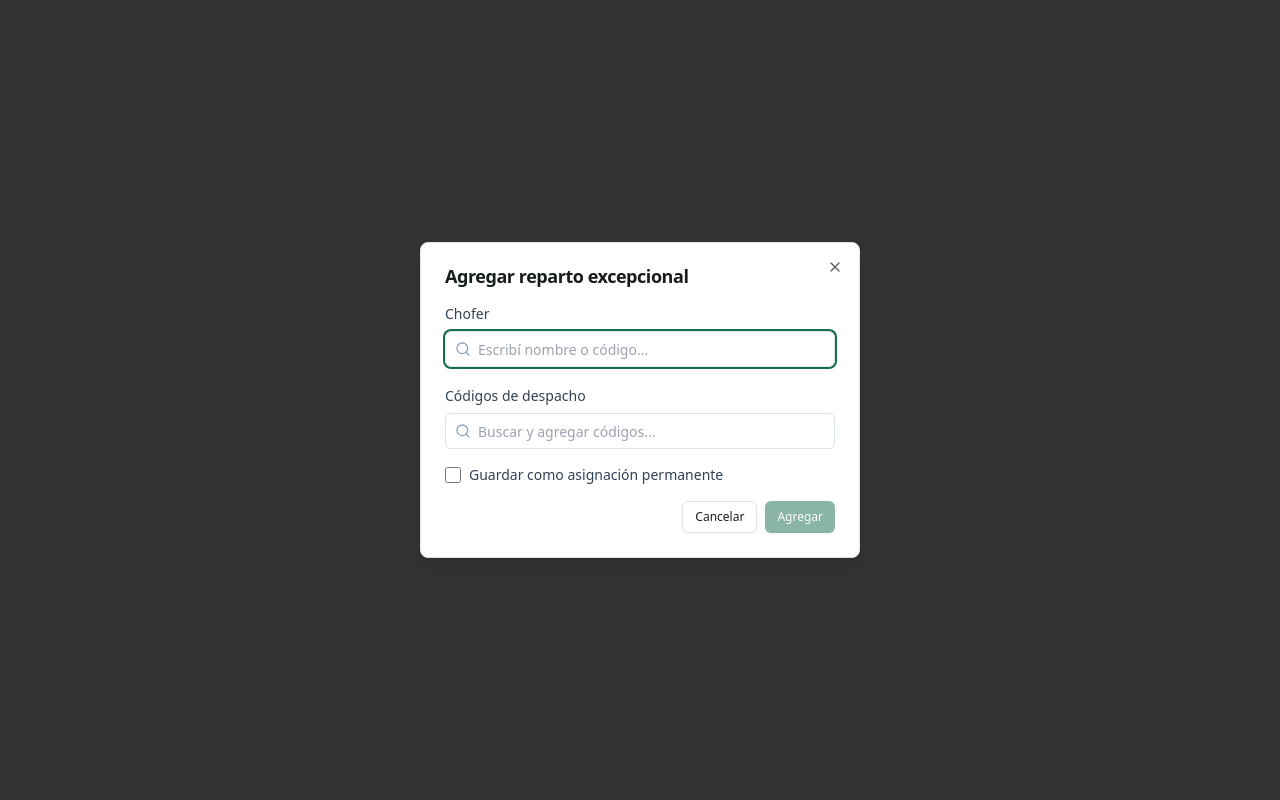
Scenario: RepartoExcepcionalModal › los códigos agregados se pueden quitar antes de guardar
In the field with placeholder "Escribí nombre o código...": (640, 349) [445, 331, 835, 367], type "lop"
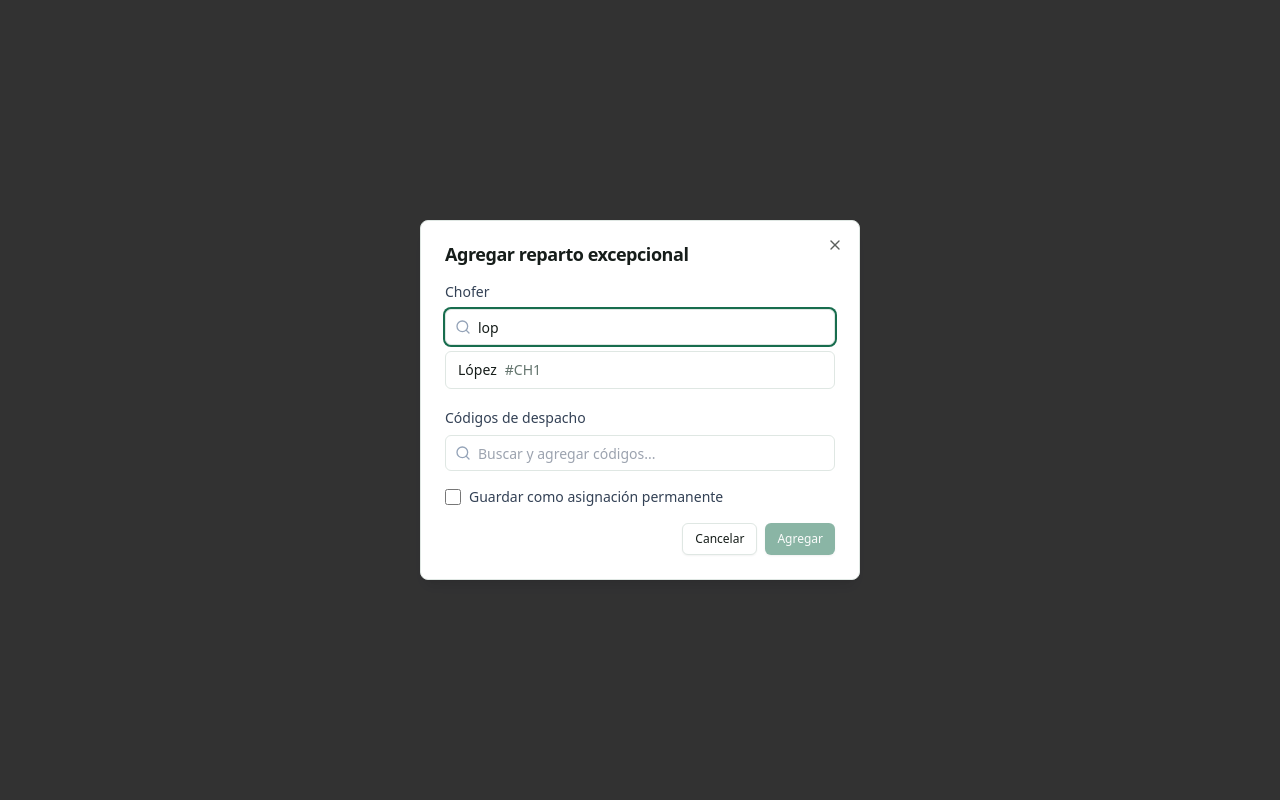
Click the button "López#CH1": (477, 370) [446, 352, 834, 388]
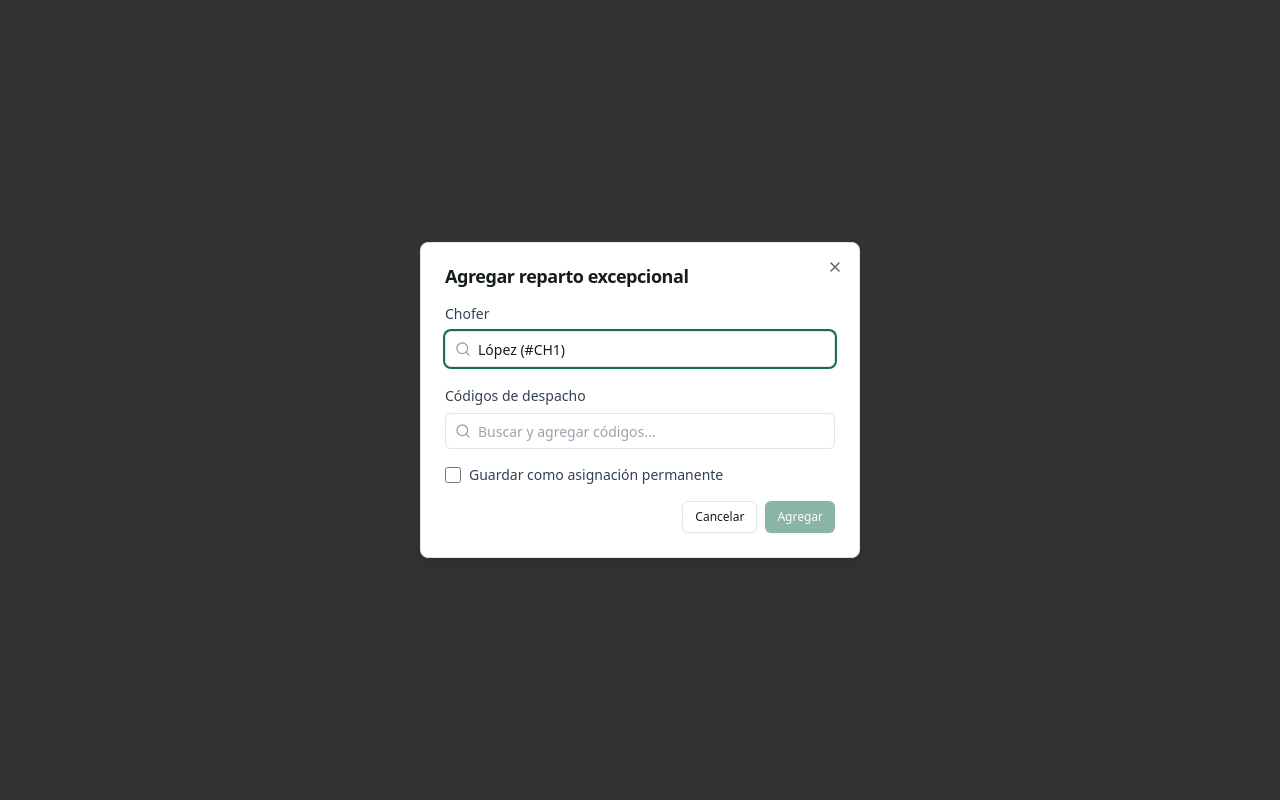
In the field with placeholder "Buscar y agregar códigos...": (640, 431) [445, 413, 835, 449], type "ruta"
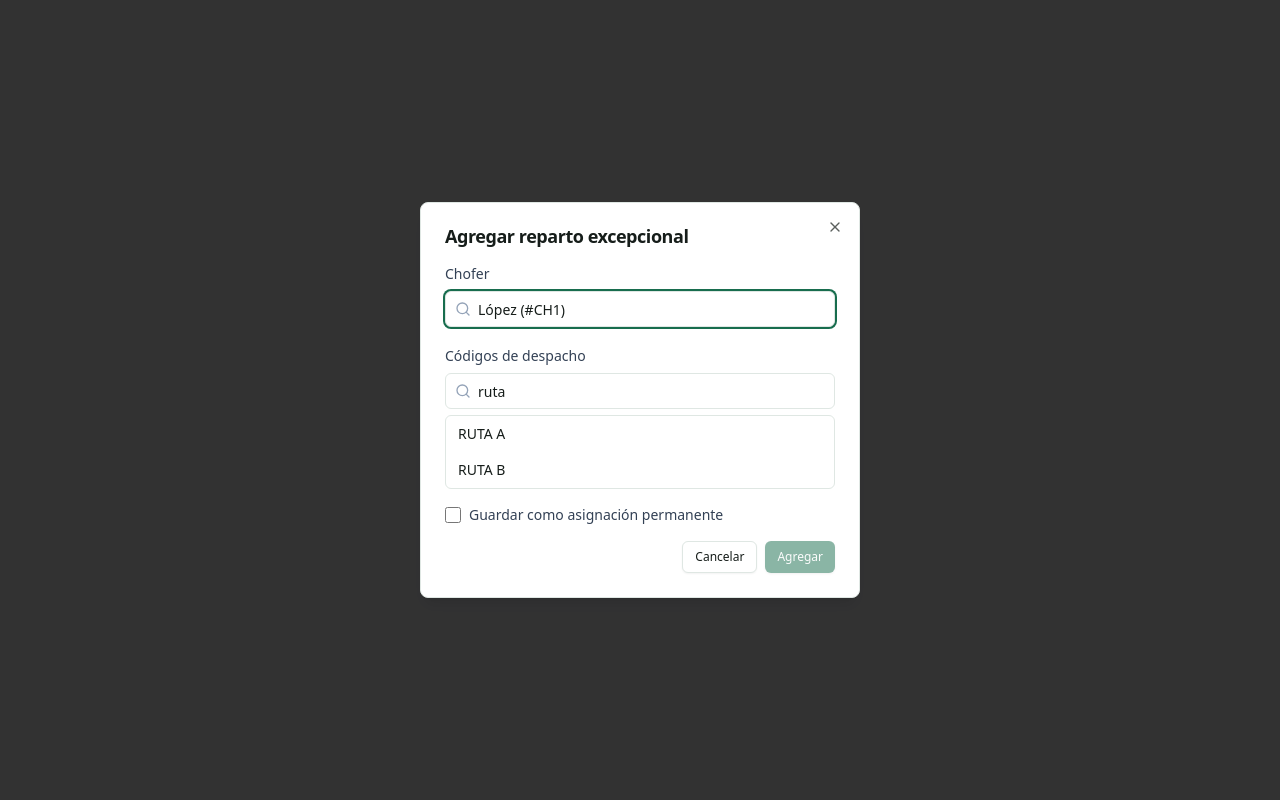
Click the button "RUTA A": (482, 434) [446, 416, 834, 452]
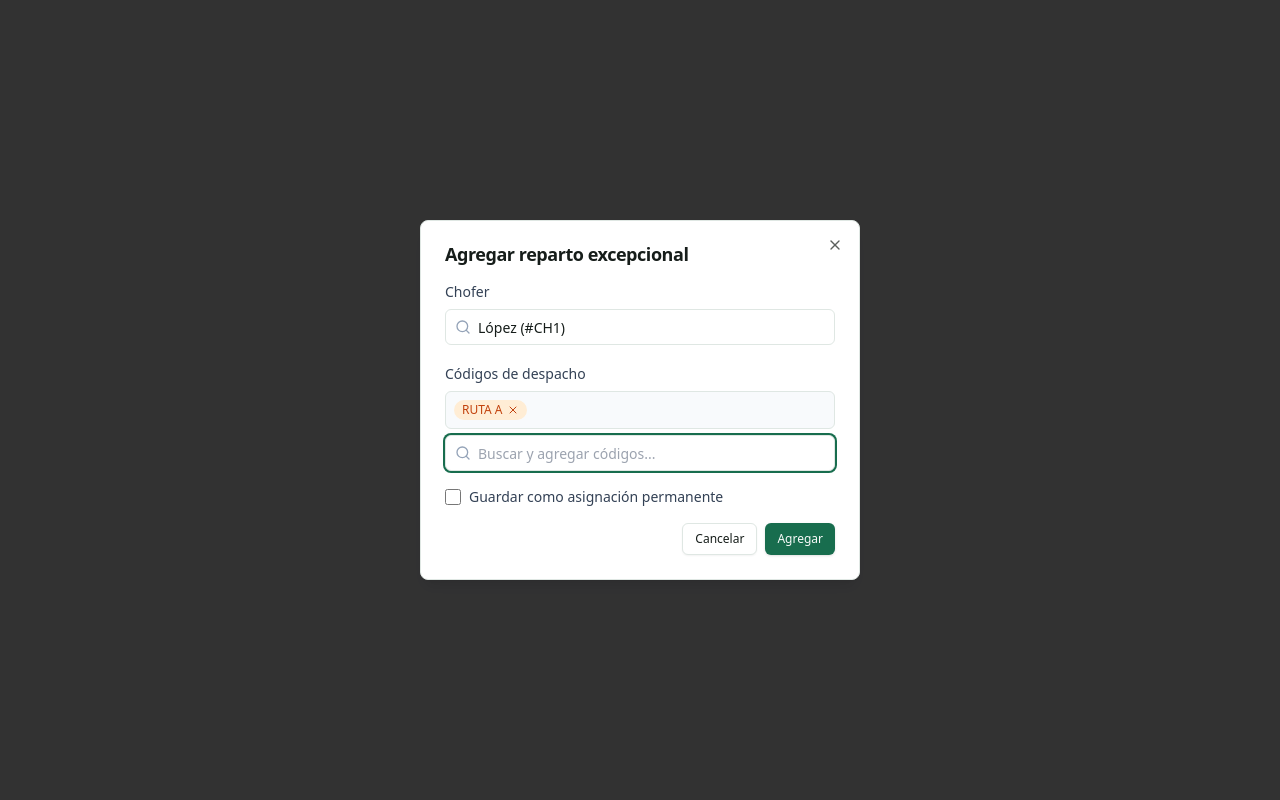
Click the button without text next to "RUTA A": (512, 410) [506, 404, 518, 416]
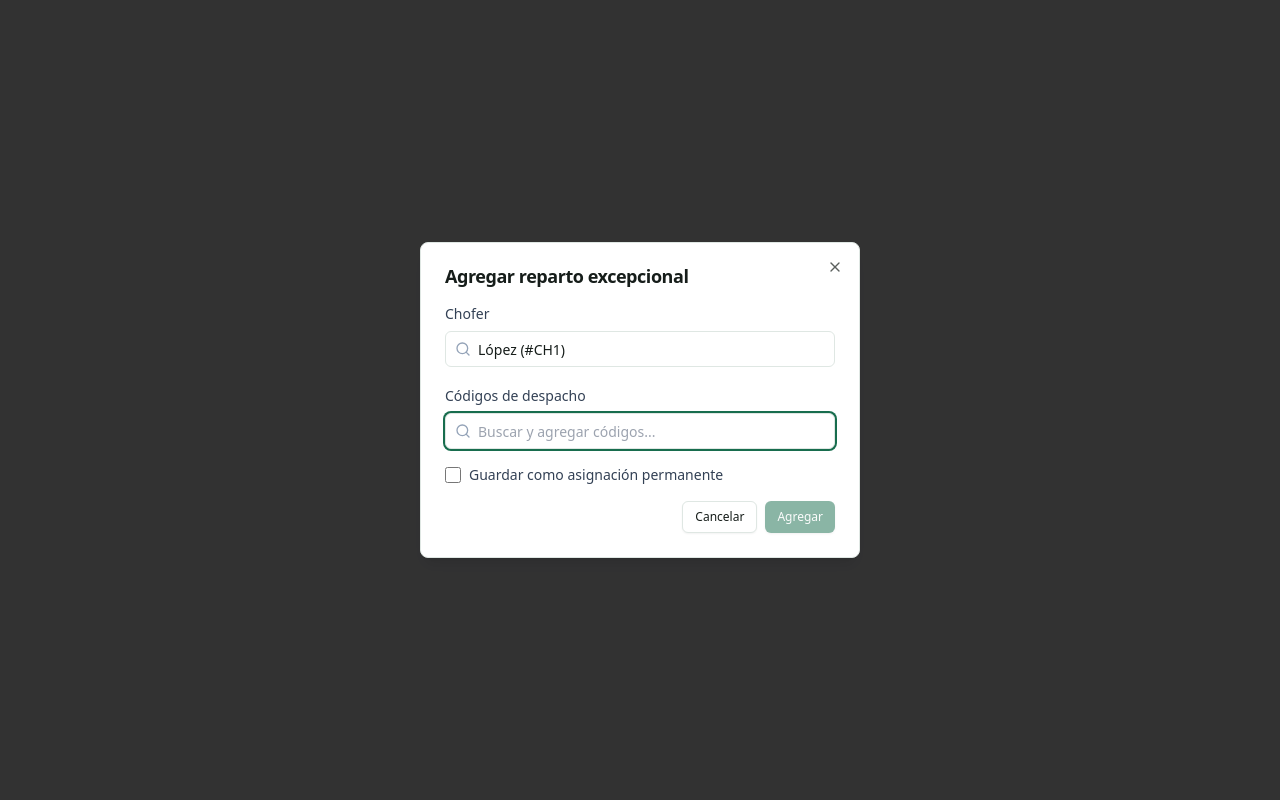
Expected: the button "Agregar" is disabled, [765, 501, 835, 533]
